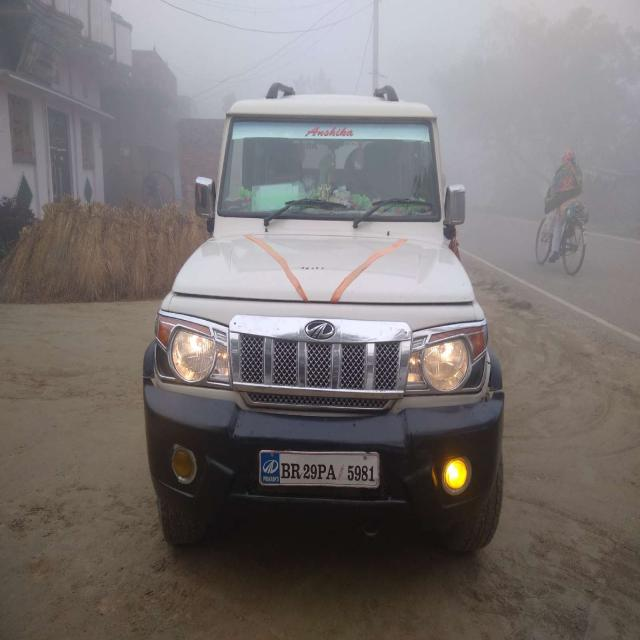light_vehicle: (144, 109, 498, 509)
